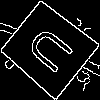U: (24, 24, 83, 82)
